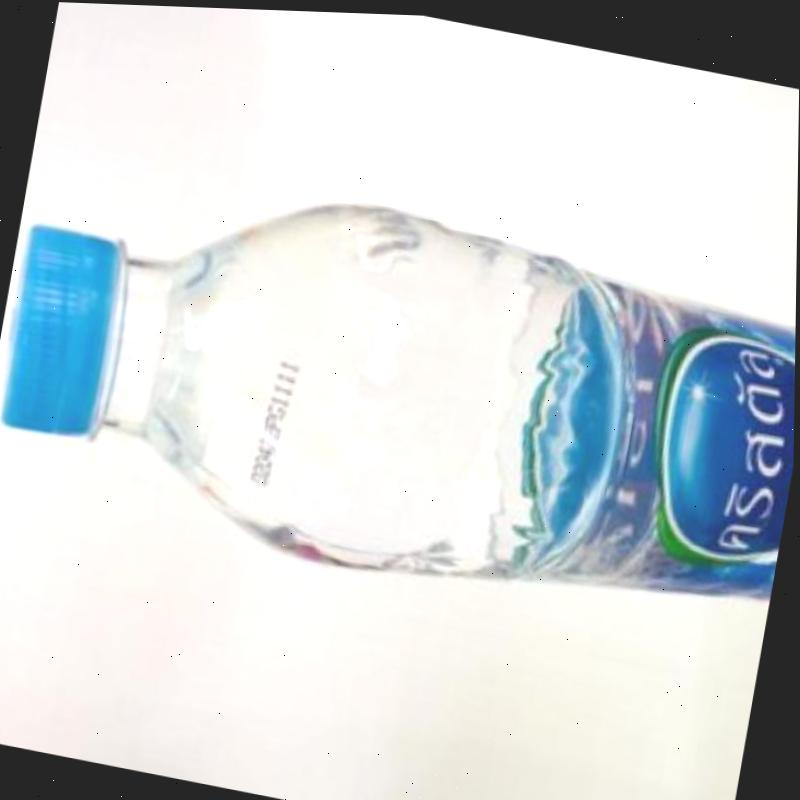botella: (0, 138, 798, 646)
